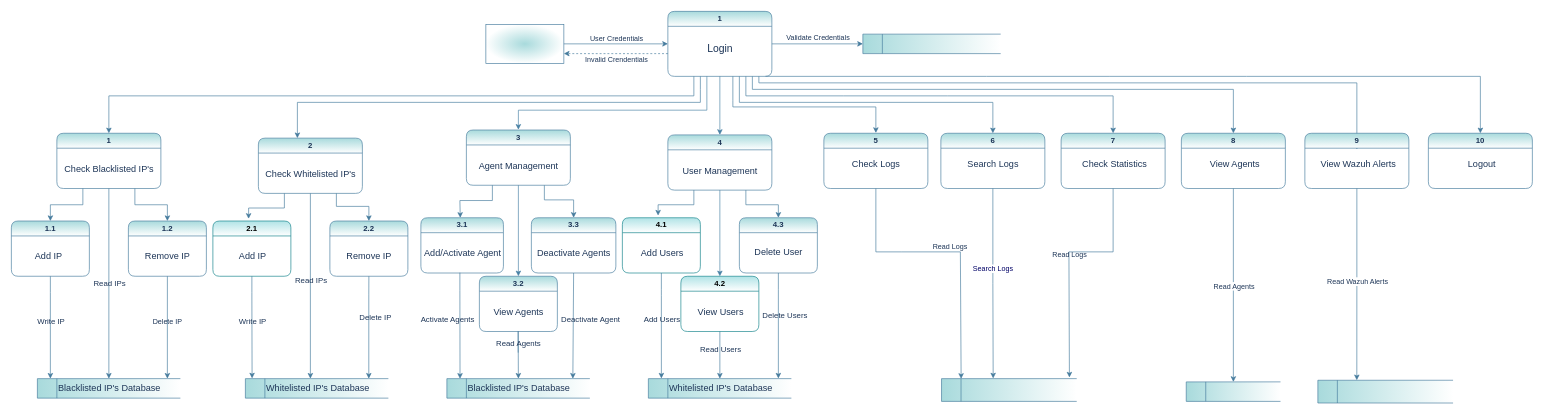
The diagram is 1544 pixels wide and 415 high, and some of its shapes have lost their labels. The shapes that lost their labels are listed below. From the top down, each one's box as (x1, y1, x2, y2) in pixels, then its label:
(485, 24, 564, 63): Admin
(862, 33, 1001, 54): User Credential Database
(941, 378, 1077, 401): Network Logs Database
(1186, 381, 1280, 401): Agent Database
(1317, 380, 1453, 403): Wazuh Alerts Database
